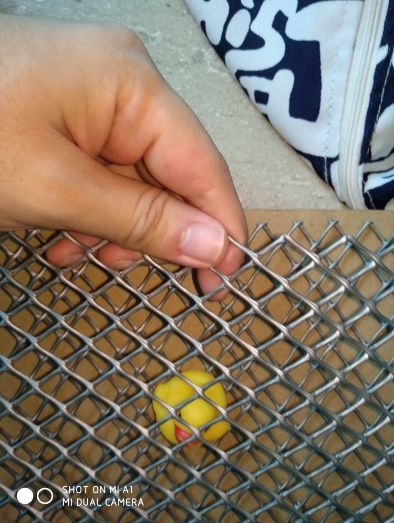unknownObject: (152, 371, 230, 446)
